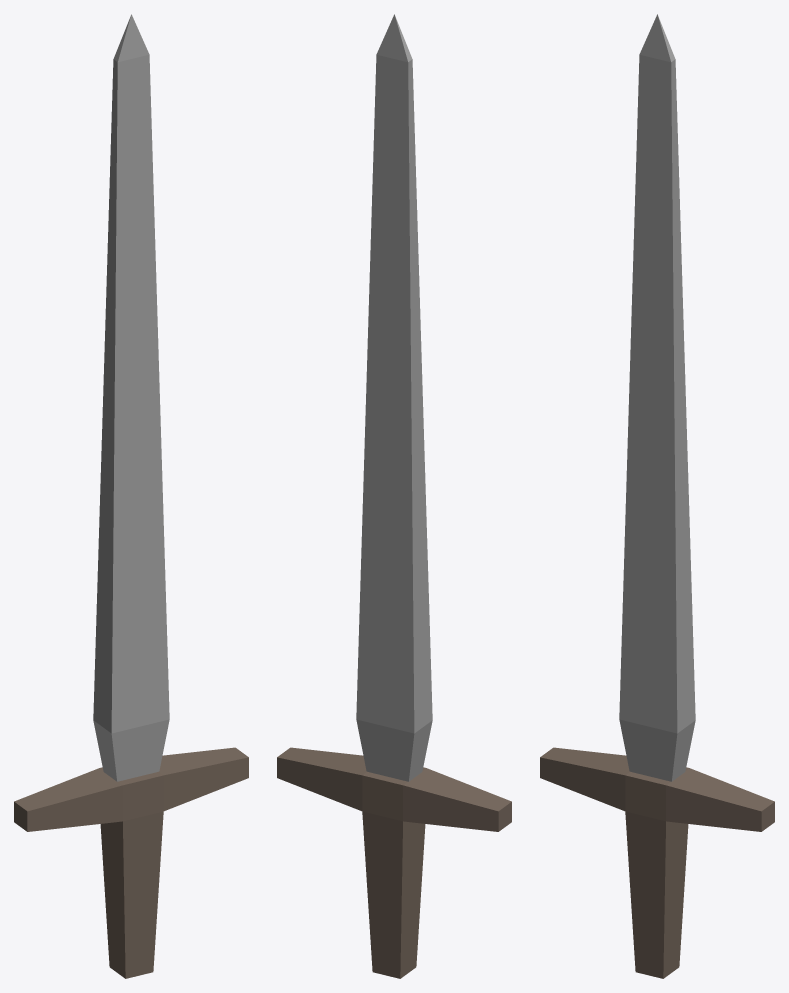
The model's file is sword_1df1993e.glb.
The picture shows the model from 3 angles, left to right: view 1: azimuth 30°, elevation 25°; view 2: azimuth 150°, elevation 25°; view 3: azimuth 330°, elevation 25°; orthographic projection.
Parts seen in each view (by area): view 1: Sword 1; view 2: Sword 1; view 3: Sword 1.
Part boxes in pixels (x1,y1,x2,y2): Sword 1: (14,14,248,978); Sword 1: (277,14,511,978); Sword 1: (540,14,774,978).
Size of the model in its own units: 27.46 by 113 by 5.06.
